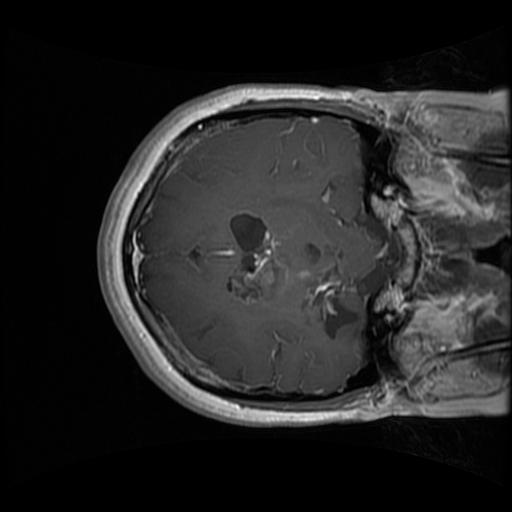glioma: (226, 210, 280, 308)
